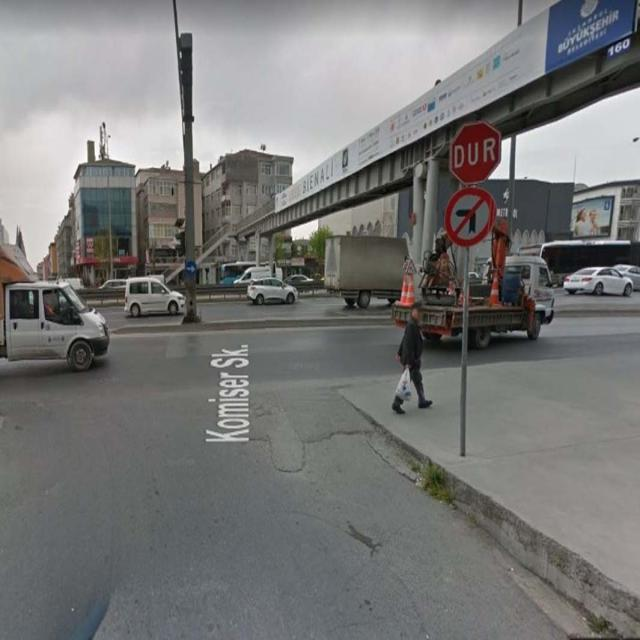dur: (448, 122, 501, 186)
sag: (186, 262, 196, 276)
soladonulmez: (445, 188, 497, 249)
